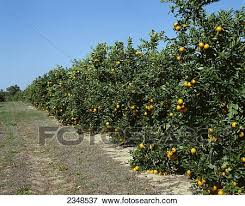orange: (197, 41, 204, 48), (178, 47, 184, 53)
